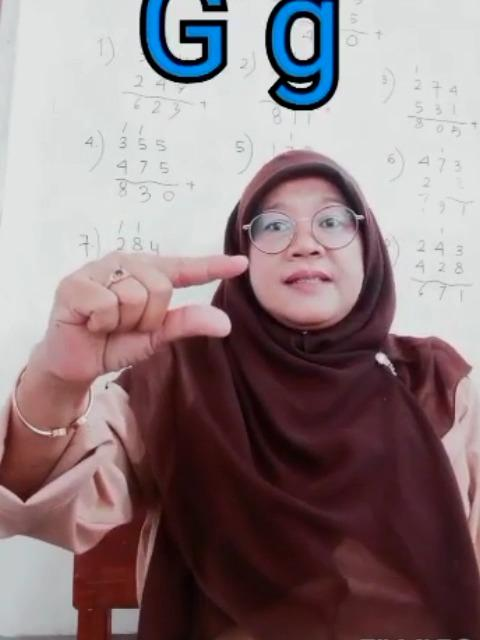G: (48, 244, 250, 372)
